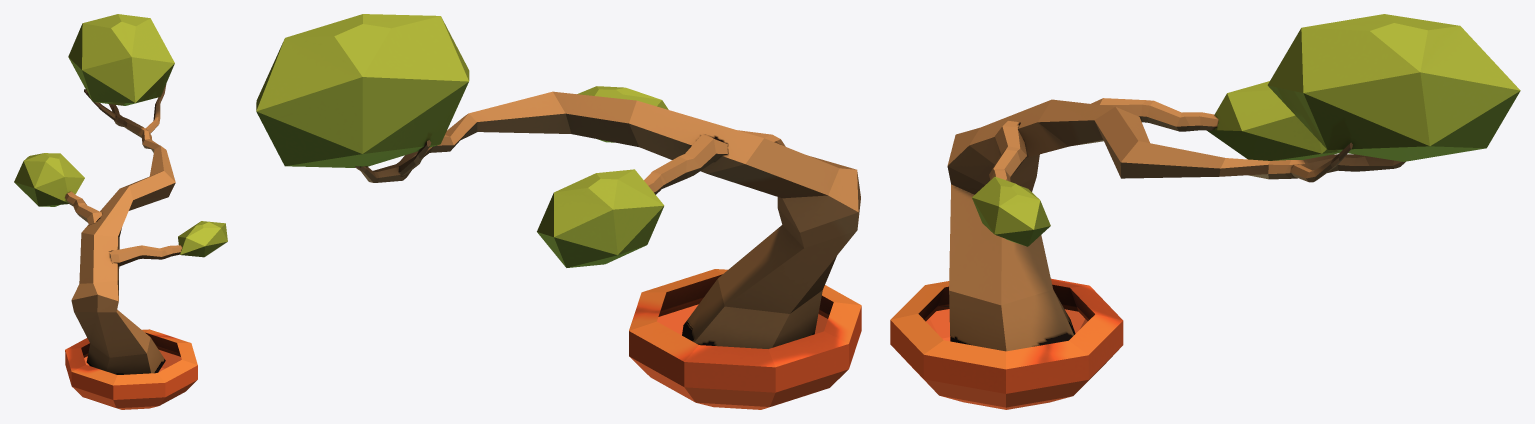
The model's file is PUSHILIN_bonsai.obj.
3 views of the same model, side by side, from view 1: azimuth 30°, elevation 25°; view 2: azimuth 150°, elevation 25°; view 3: azimuth 270°, elevation 25° (orthographic). The views are drawn at different scales.
Visible parts, largest first — view 1: bonsai; view 2: bonsai; view 3: bonsai.
Part boxes in pixels (x1,y1,x2,y2): bonsai: (14,14,227,409); bonsai: (256,14,861,409); bonsai: (890,14,1520,409).
Size of the model in its own units: 1.32 by 1.54 by 1.97.
Materials: 1 (1 with a texture image).
